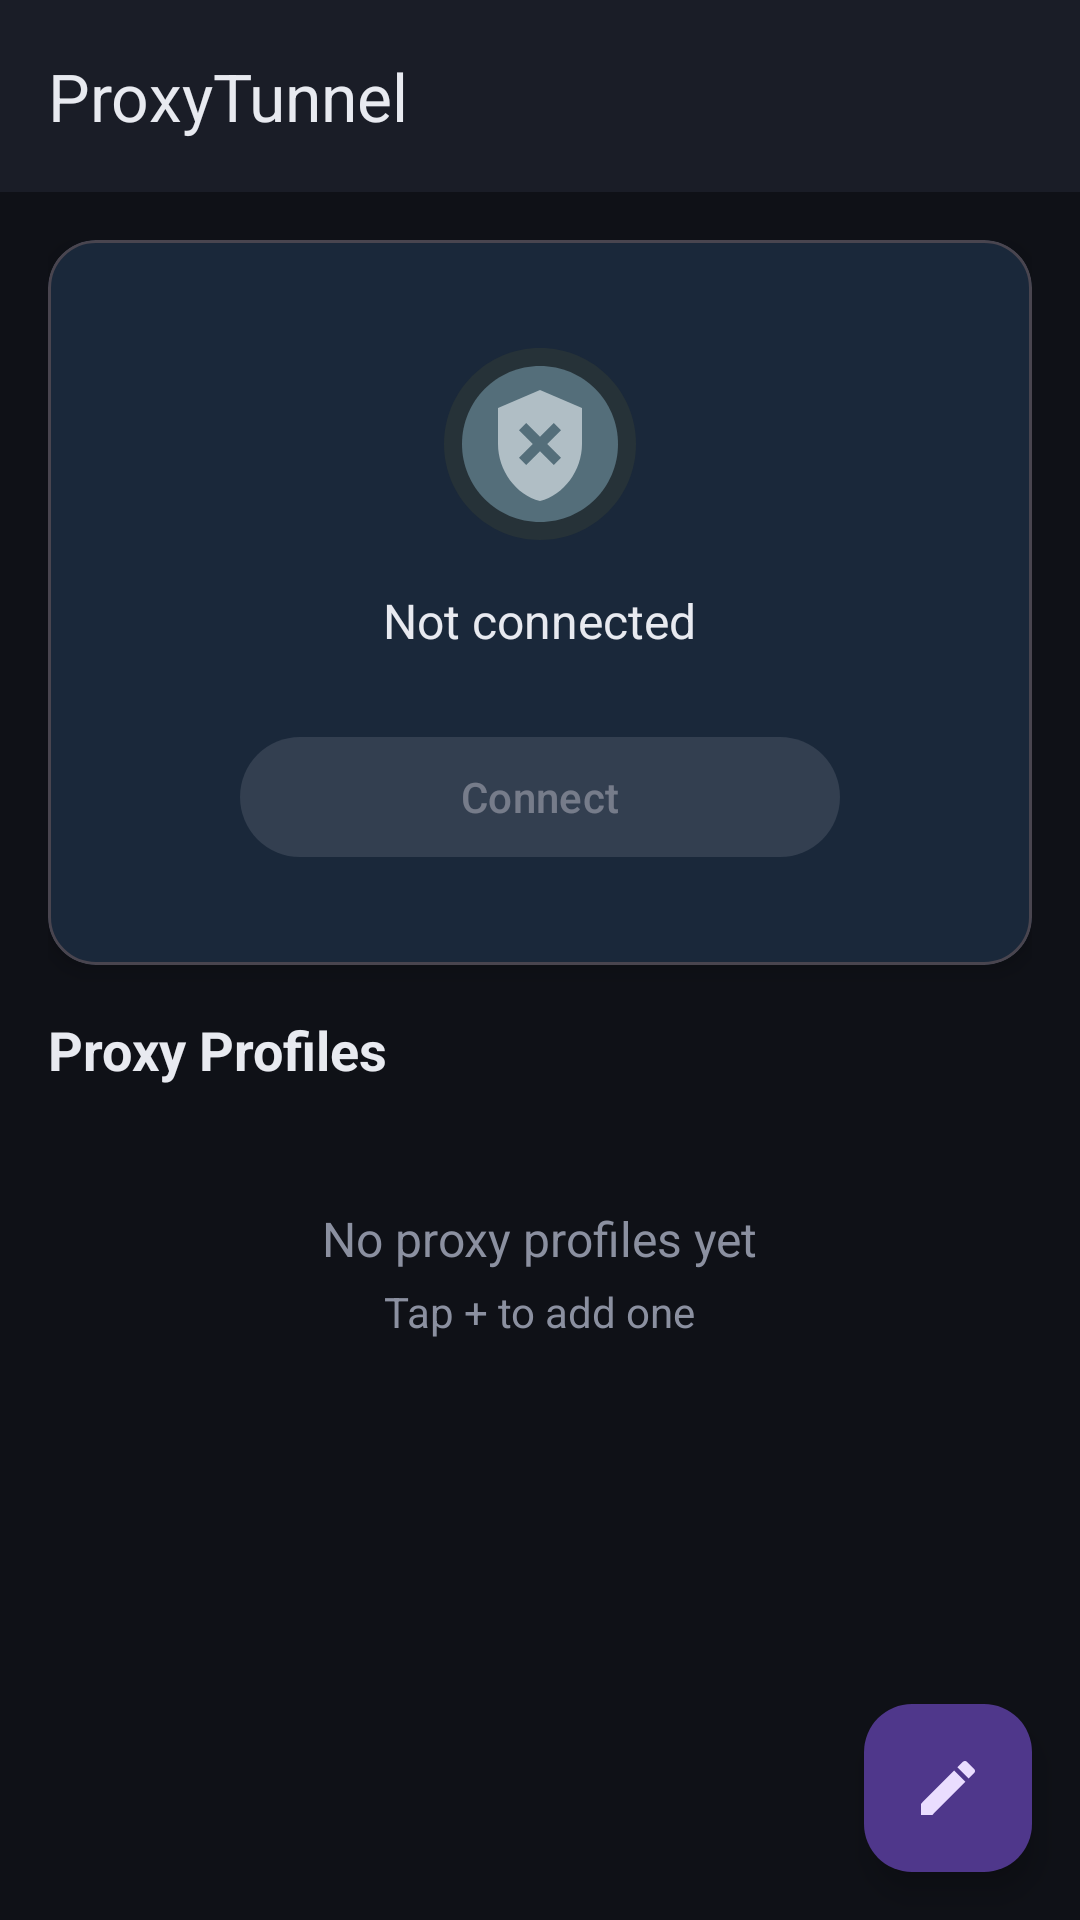

Named icons in this screenshot (1080px x 1920px) and their centers, point (x, y):
status disconnected: point (540, 444)
